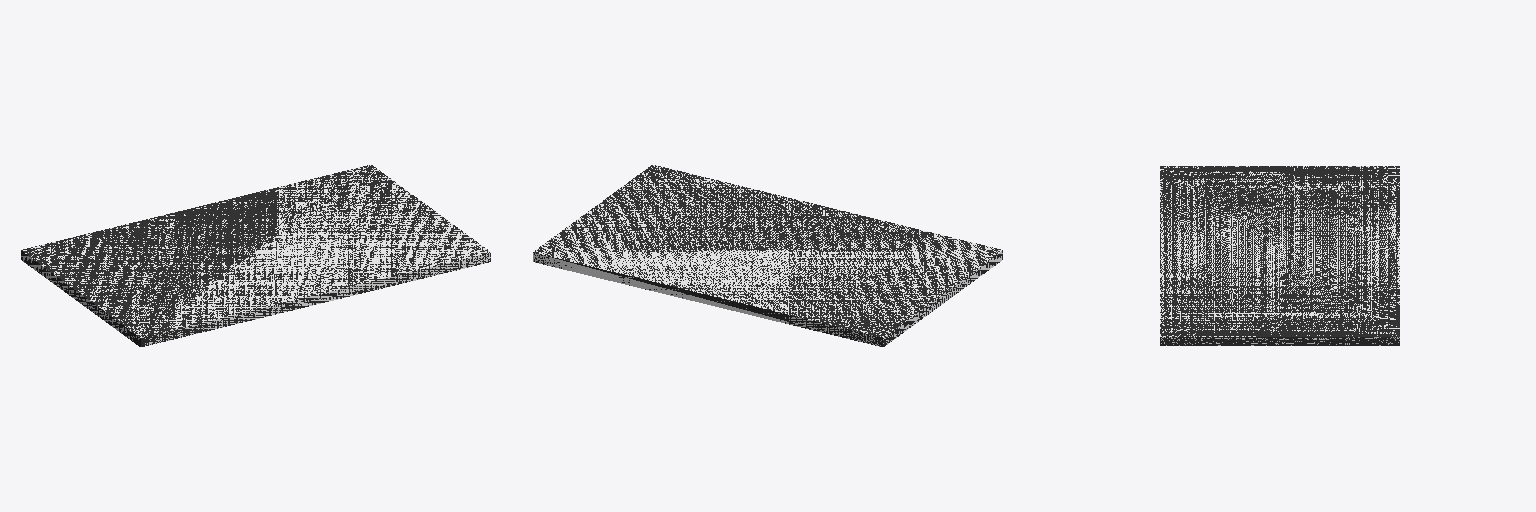
The model's file is original-146.obj.
The picture shows the model from 3 angles: view 1: azimuth 30°, elevation 25°; view 2: azimuth 150°, elevation 25°; view 3: azimuth 270°, elevation 25°; orthographic projection.
Visible parts, largest first — view 1: mesh234/mesh234-geometry#mesh234-geometry; view 2: mesh234/mesh234-geometry#mesh234-geometry; view 3: mesh234/mesh234-geometry#mesh234-geometry.
Boxes of the visible parts, x1,y1,x2,y2 form: mesh234/mesh234-geometry#mesh234-geometry: [21, 165, 490, 346]; mesh234/mesh234-geometry#mesh234-geometry: [533, 165, 1002, 346]; mesh234/mesh234-geometry#mesh234-geometry: [1160, 166, 1399, 345].
Size of the model in its own units: 0.167 by 0.0044 by 0.099.